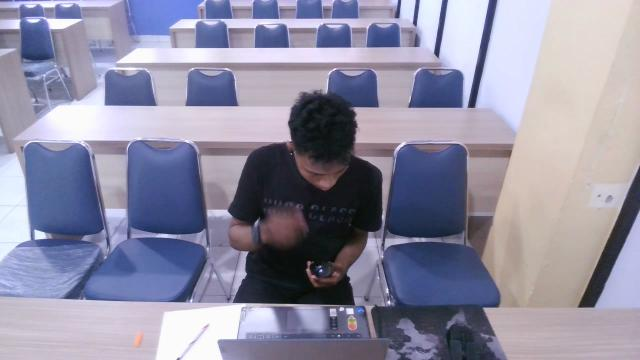Earpiece: (301, 255, 343, 282)
Head_Down_Extreme: (221, 84, 387, 317)
